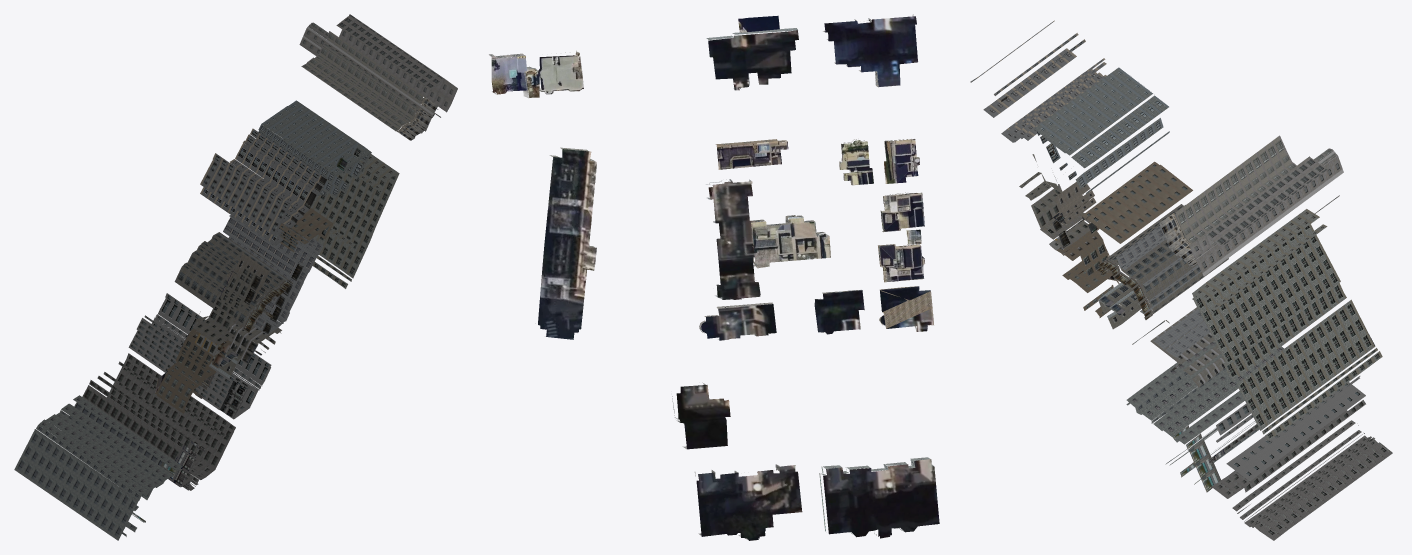
The model's file is tile_LOD4_r3_c12.glb.
3 views of the same model, side by side, from view 1: azimuth 30°, elevation 25°; view 2: azimuth 150°, elevation 25°; view 3: azimuth 270°, elevation 25° (orthographic). The views are drawn at different scales.
Size of the model in its own units: 188 by 176 by 144.
Materials: 98 (98 with a texture image).
